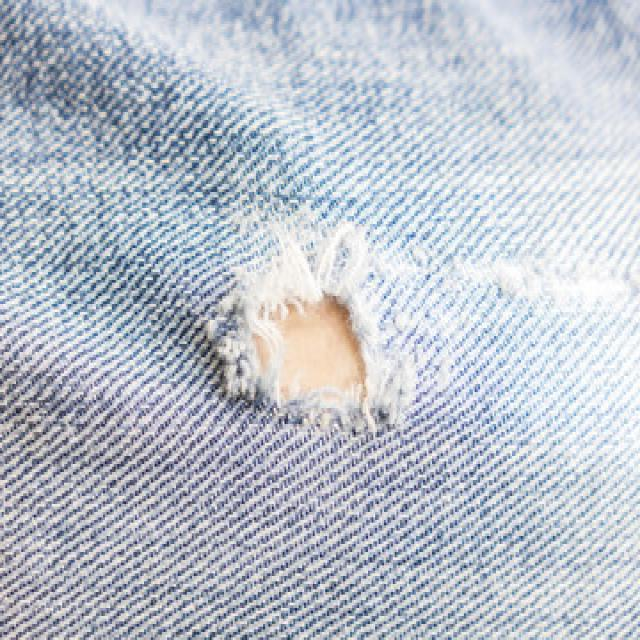Hole: (214, 223, 417, 435)
